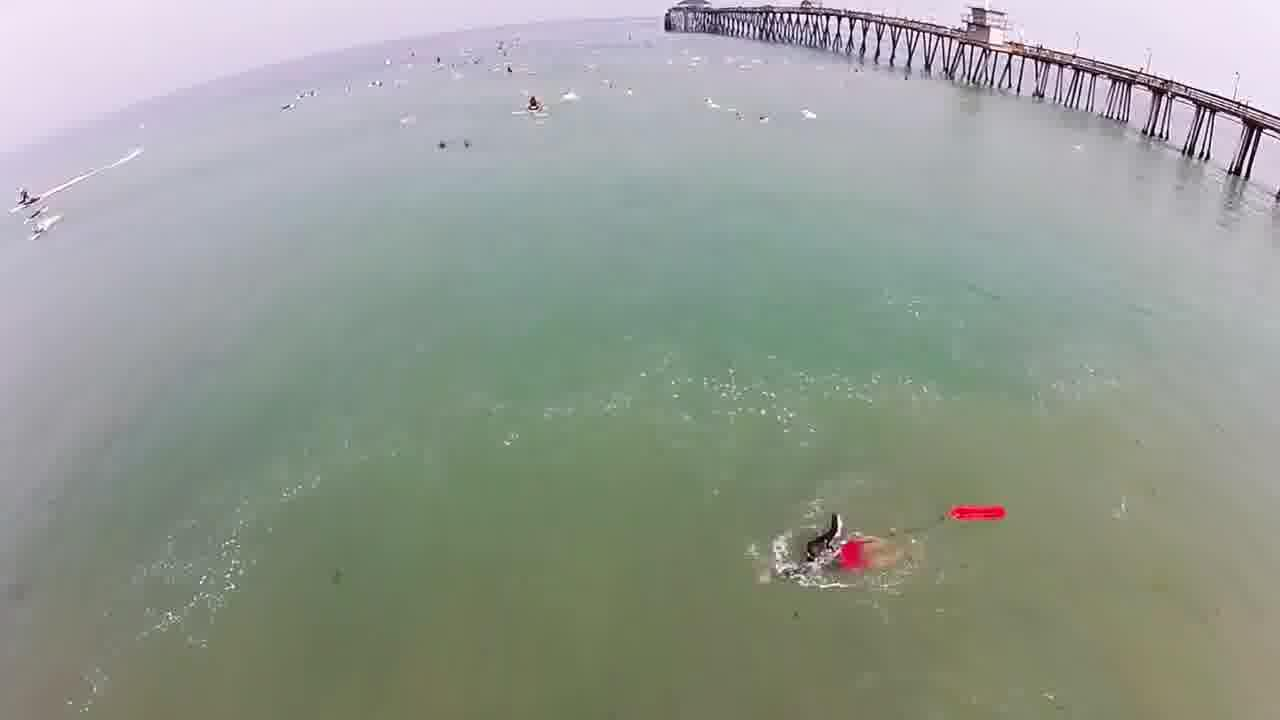swimmer: (792, 511, 843, 588)
